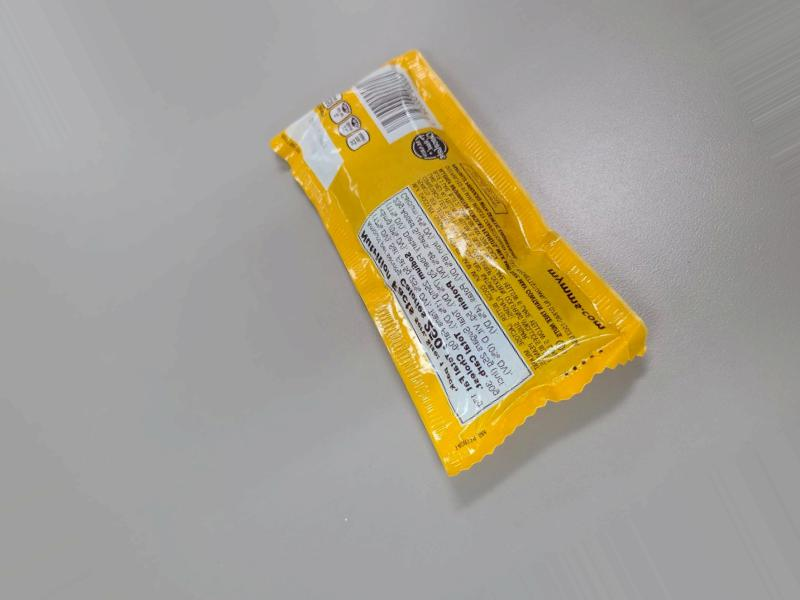m&m: (262, 47, 644, 462)
